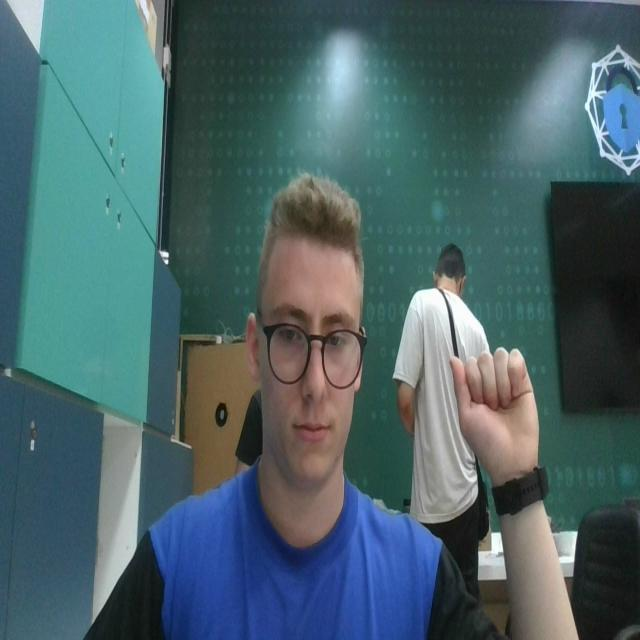A: (448, 343, 544, 471)
